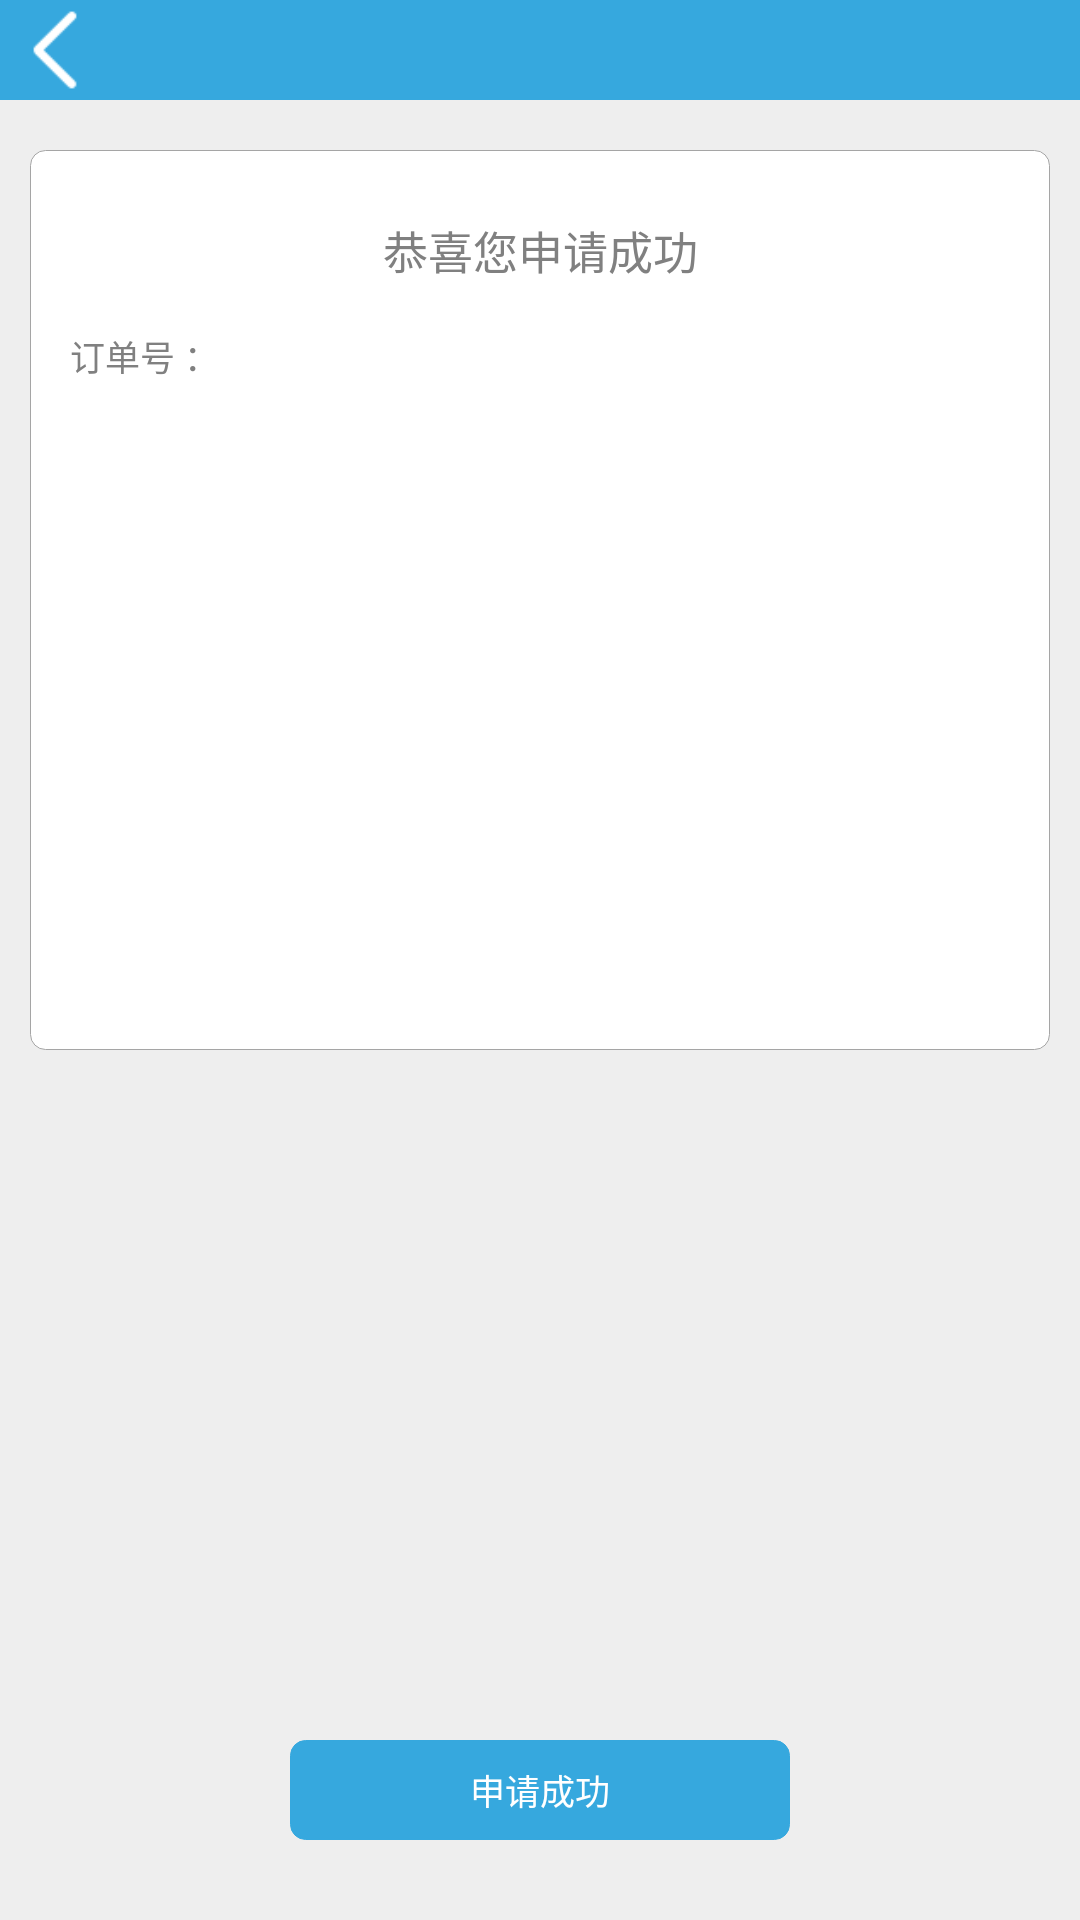

Named icons in this screenshot (1080w x 1920h) and their centers, point (x, y):
leftarrowicon: point (55, 50)
